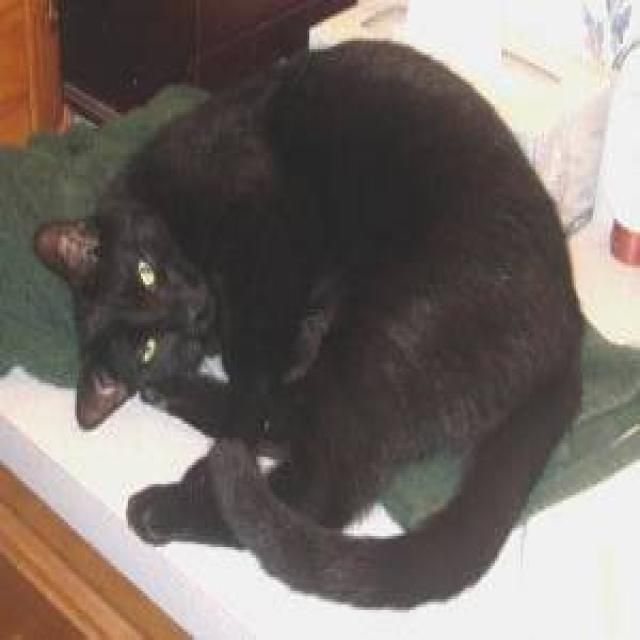cat: (32, 35, 585, 610)
